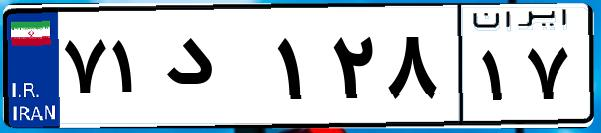1: (270, 28, 330, 110), (475, 38, 525, 113), (110, 28, 158, 98)
2: (330, 28, 385, 110)
7: (57, 26, 110, 100), (525, 38, 570, 115)
8: (385, 28, 445, 110)
د: (158, 20, 270, 120)
